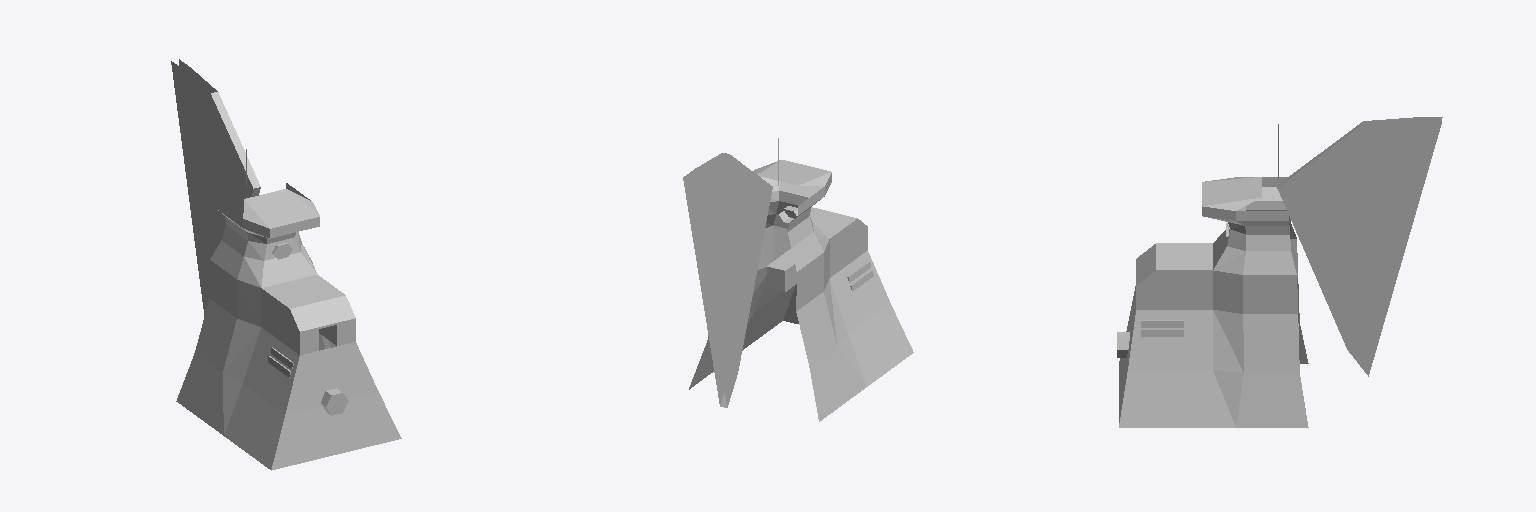
The picture shows the model from 3 angles: view 1: azimuth 30°, elevation 25°; view 2: azimuth 150°, elevation 25°; view 3: azimuth 270°, elevation 25°; orthographic projection.
Parts seen in each view (by area): view 1: s13_on_24_12, s13_on_24_0, s13_on_24_13, s13_on_24_17, s13_on_24_14, s13_on_24_5, s13_on_24_9, s13_on_24_16, s13_on_24_18, s13_on_24_4, s13_on_24_3, s13_on_24_6 (+2 smaller); view 2: s13_on_24_13, s13_on_24_0, s13_on_24_12, s13_on_24_14, s13_on_24_17, s13_on_24_5, s13_on_24_9, s13_on_24_16, s13_on_24_3, s13_on_24_2; view 3: s13_on_24_13, s13_on_24_0, s13_on_24_12, s13_on_24_14, s13_on_24_17, s13_on_24_5, s13_on_24_9, s13_on_24_16, s13_on_24_3, s13_on_24_2, s13_on_24_4, s13_on_24_11 (+1 smaller).
Part boxes in pixels (x1,y1,x2,y2): s13_on_24_12: (210,216,378,414); s13_on_24_0: (176,344,401,470); s13_on_24_13: (184,68,252,258); s13_on_24_17: (195,260,324,372); s13_on_24_14: (171,59,209,316); s13_on_24_5: (218,189,319,238); s13_on_24_9: (261,306,355,354); s13_on_24_16: (262,274,344,308); s13_on_24_18: (290,295,355,331); s13_on_24_4: (217,183,319,238); s13_on_24_3: (237,280,260,326); s13_on_24_6: (211,92,260,196); s13_on_24_13: (695,153,772,370); s13_on_24_0: (689,284,913,421); s13_on_24_12: (749,190,890,346); s13_on_24_14: (683,169,737,407); s13_on_24_17: (707,253,836,367); s13_on_24_5: (755,160,831,221); s13_on_24_9: (767,229,867,291); s13_on_24_16: (810,207,857,238); s13_on_24_3: (758,226,829,289); s13_on_24_2: (773,219,867,253); s13_on_24_13: (1278,117,1417,347); s13_on_24_0: (1119,323,1308,427); s13_on_24_12: (1128,201,1296,372); s13_on_24_14: (1347,117,1442,376); s13_on_24_17: (1243,239,1299,372); s13_on_24_5: (1202,177,1289,225); s13_on_24_9: (1136,288,1212,309); s13_on_24_16: (1156,243,1212,269); s13_on_24_3: (1213,271,1242,313); s13_on_24_2: (1137,270,1212,285); s13_on_24_4: (1202,177,1288,220); s13_on_24_11: (1141,321,1183,336).
Size of the model in its own units: 700 by 1430 by 1506.